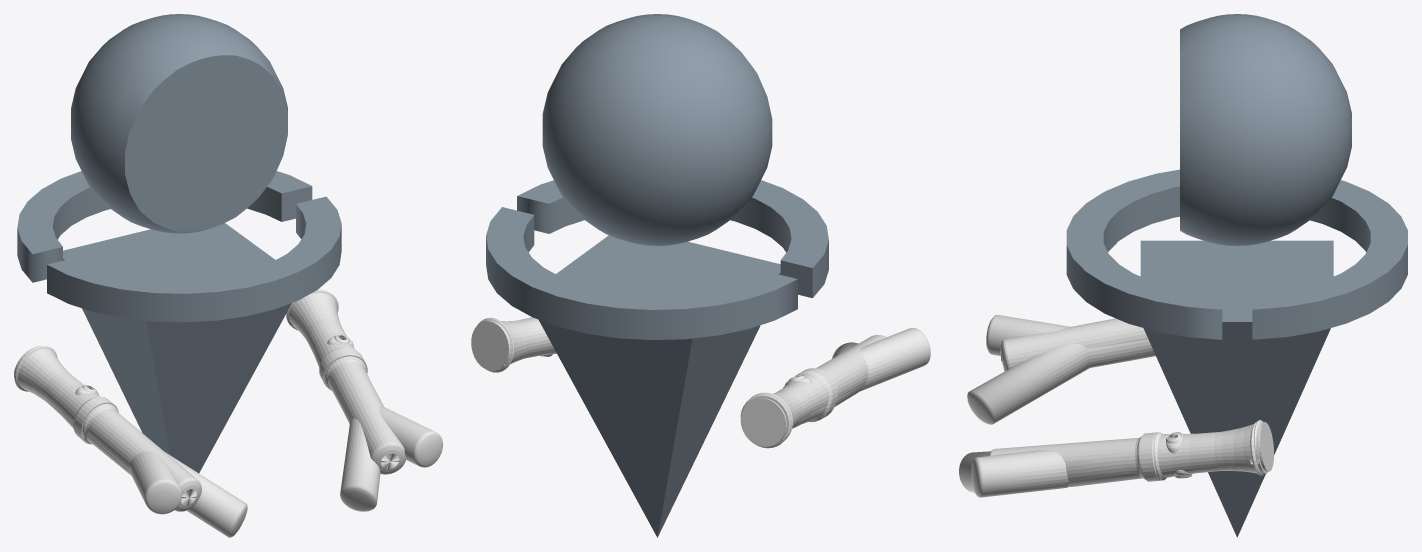
The model's file is Character_Pen.fbx.
3 renders of one model, left to right at view 1: azimuth 30°, elevation 25°; view 2: azimuth 150°, elevation 25°; view 3: azimuth 270°, elevation 25°, orthographic. The views are drawn at different scales.
Visible parts, largest first — view 1: Avatar_001__Avatar_001_head, Avatar_001__Avatar_001_body, Avatar_001, Circle_001_2, Circle_001, Penlight_cg__Circle_2, Penlight_cg__Circle_001, Penlight_cg__Circle_001_2, Penlight_cg__Circle, Circle; view 2: Avatar_001__Avatar_001_head, Avatar_001__Avatar_001_body, Avatar_001, Circle, Circle_001_2, Penlight_cg__Circle_2, Circle_2, Penlight_cg__Circle_001_2; view 3: Avatar_001__Avatar_001_head, Avatar_001__Avatar_001_body, Avatar_001, Circle_001_2, Circle_001, Penlight_cg__Circle, Penlight_cg__Circle_001_2, Penlight_cg__Circle_001, Circle.
Boxes of the visible parts, left/top/right/bottom form: Avatar_001__Avatar_001_head: left=71, top=14, right=287, bottom=233; Avatar_001__Avatar_001_body: left=63, top=223, right=291, bottom=473; Avatar_001: left=17, top=171, right=341, bottom=322; Circle_001_2: left=87, top=435, right=247, bottom=537; Circle_001: left=328, top=366, right=442, bottom=511; Penlight_cg__Circle_2: left=14, top=346, right=201, bottom=511; Penlight_cg__Circle_001: left=331, top=362, right=402, bottom=456; Penlight_cg__Circle_001_2: left=88, top=409, right=196, bottom=483; Penlight_cg__Circle: left=291, top=290, right=406, bottom=474; Circle: left=286, top=288, right=357, bottom=387; Avatar_001__Avatar_001_head: left=542, top=14, right=772, bottom=246; Avatar_001__Avatar_001_body: left=539, top=235, right=780, bottom=537; Avatar_001: left=486, top=180, right=828, bottom=340; Circle: left=471, top=318, right=556, bottom=372; Circle_001_2: left=832, top=328, right=930, bottom=406; Penlight_cg__Circle_2: left=750, top=368, right=837, bottom=439; Circle_2: left=740, top=382, right=835, bottom=448; Penlight_cg__Circle_001_2: left=816, top=335, right=886, bottom=397; Avatar_001__Avatar_001_head: left=1180, top=14, right=1351, bottom=246; Avatar_001__Avatar_001_body: left=1140, top=240, right=1333, bottom=537; Avatar_001: left=1066, top=169, right=1407, bottom=339; Circle_001_2: left=967, top=315, right=1155, bottom=424; Circle_001: left=959, top=450, right=1141, bottom=497; Penlight_cg__Circle: left=989, top=422, right=1268, bottom=481; Penlight_cg__Circle_001_2: left=1004, top=318, right=1148, bottom=368; Penlight_cg__Circle_001: left=991, top=438, right=1139, bottom=476; Circle: left=1148, top=420, right=1273, bottom=480.
Size of the model in its own units: 285 by 423 by 335.
